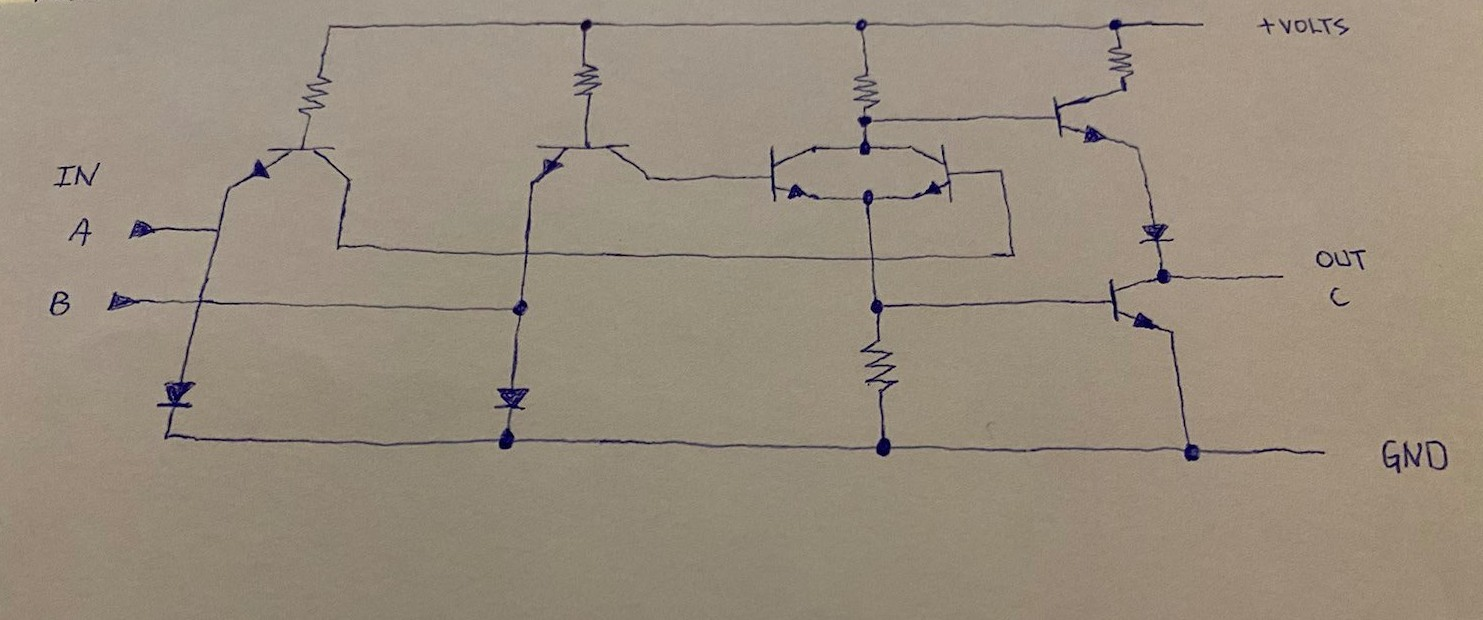diode: (148, 374, 204, 410), (488, 375, 532, 416), (1135, 213, 1183, 250)
junction: (1172, 430, 1216, 471), (862, 426, 906, 466), (490, 424, 526, 458), (503, 294, 540, 325), (859, 288, 895, 319), (848, 11, 881, 40), (992, 239, 1024, 268), (198, 216, 228, 245), (1148, 262, 1179, 290), (512, 238, 542, 266), (987, 160, 1018, 187), (182, 288, 212, 315), (153, 421, 183, 448), (853, 185, 883, 211), (856, 244, 884, 271), (1104, 11, 1134, 36), (325, 233, 354, 257), (573, 9, 598, 36), (319, 16, 345, 40), (854, 138, 881, 161), (854, 110, 880, 130)
resistor: (853, 334, 903, 395), (296, 70, 335, 124), (569, 58, 608, 104), (849, 66, 883, 110), (1103, 42, 1138, 81)
terminal: (124, 216, 179, 245), (1292, 439, 1342, 465), (1256, 260, 1300, 288), (101, 288, 145, 315), (1182, 14, 1219, 36)
text: (1379, 435, 1457, 477), (1278, 10, 1353, 43), (1312, 243, 1371, 275), (51, 157, 103, 192), (42, 284, 74, 323), (62, 215, 95, 249), (1322, 282, 1355, 316), (1253, 12, 1274, 37)
transistor: (214, 143, 362, 195), (521, 136, 650, 193), (761, 136, 830, 208), (1048, 88, 1124, 150), (901, 136, 962, 206), (1105, 268, 1156, 340)
